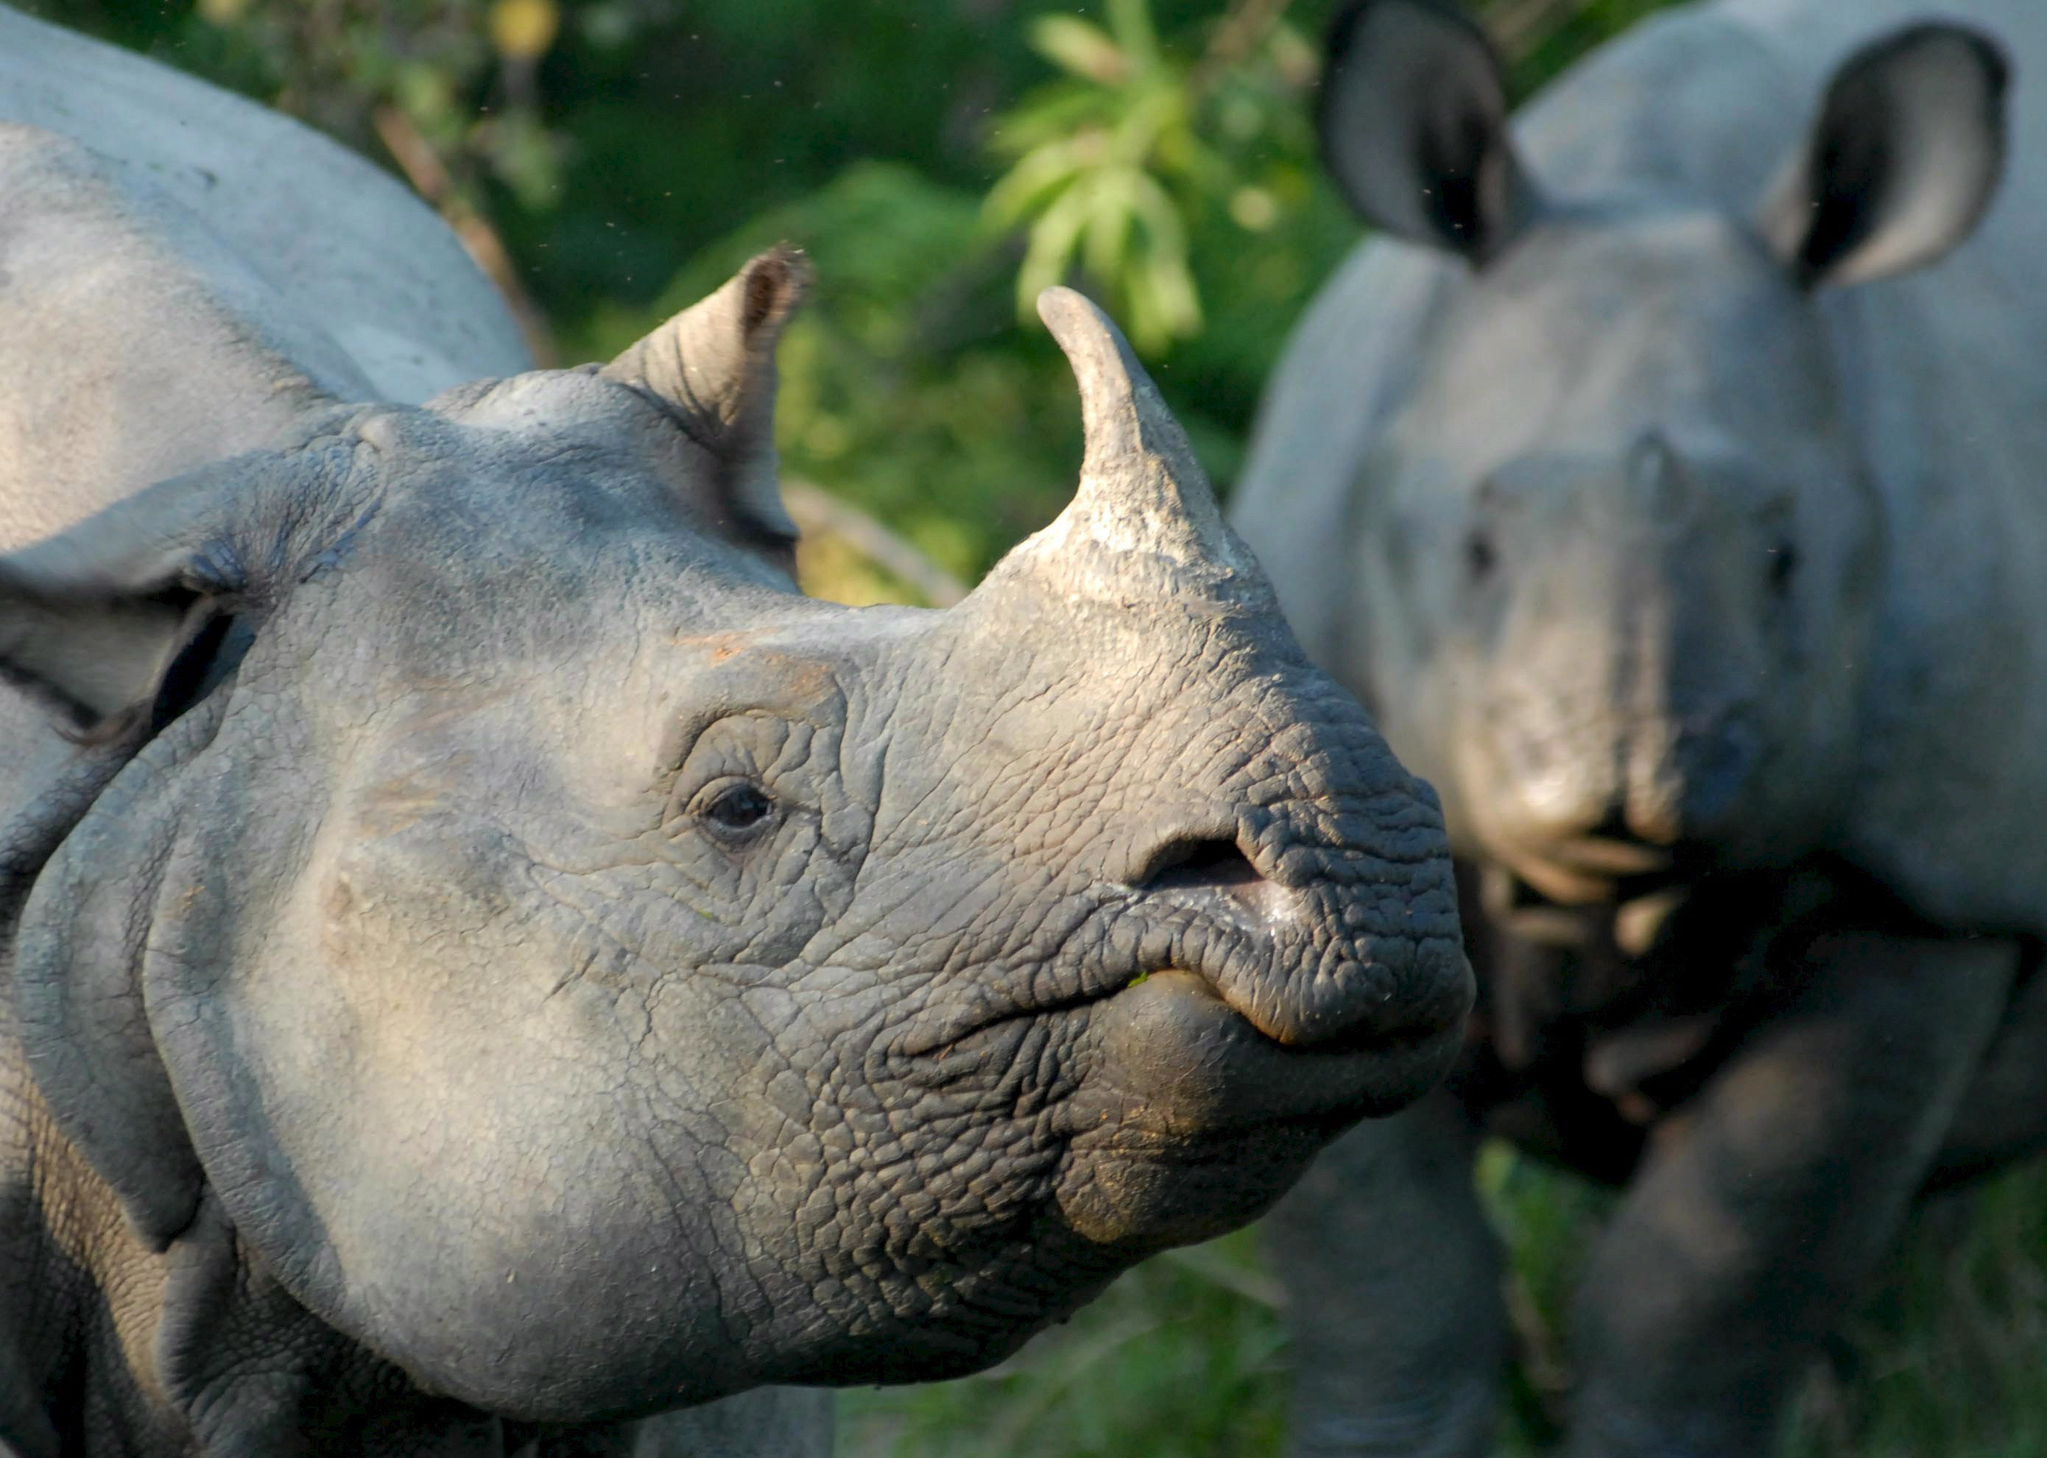Rhinoceros: (63, 211, 1503, 1425)
